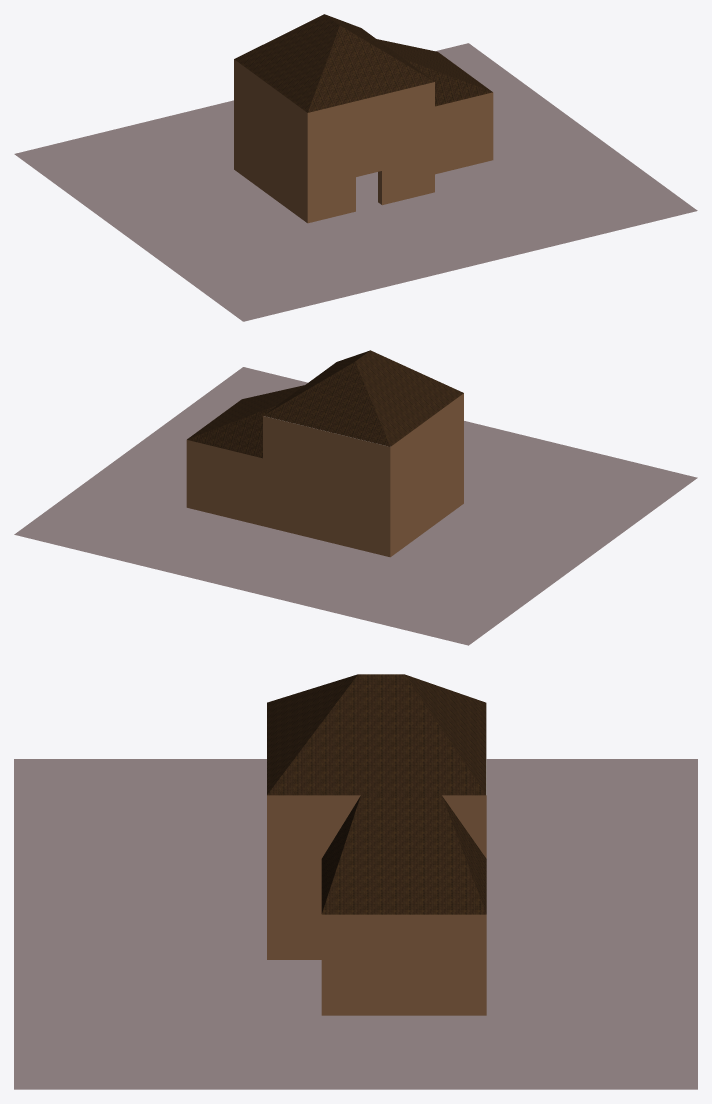
File: building.fbx
The picture shows the model from 3 angles, top to bottom: view 1: azimuth 30°, elevation 25°; view 2: azimuth 150°, elevation 25°; view 3: azimuth 270°, elevation 25°; orthographic projection. The views are drawn at different scales.
Visible parts, largest first — view 1: Model, house1; view 2: Model, house1; view 3: Model, house1.
Boxes of the visible parts, <box> form: Model: <box>14,43,697,321</box>; house1: <box>234,14,493,223</box>; Model: <box>14,367,697,645</box>; house1: <box>186,350,463,557</box>; Model: <box>14,759,697,1089</box>; house1: <box>267,674,486,1015</box>.
Size of the model in its own units: 34 by 11.45 by 29.7.
